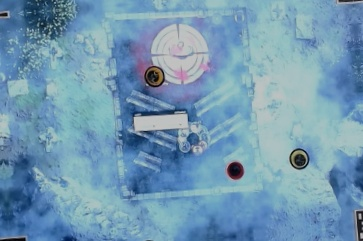lime_green_violet: (287, 146, 312, 171)
red: (223, 158, 248, 183)
yellow_night_blue: (143, 64, 168, 88)
